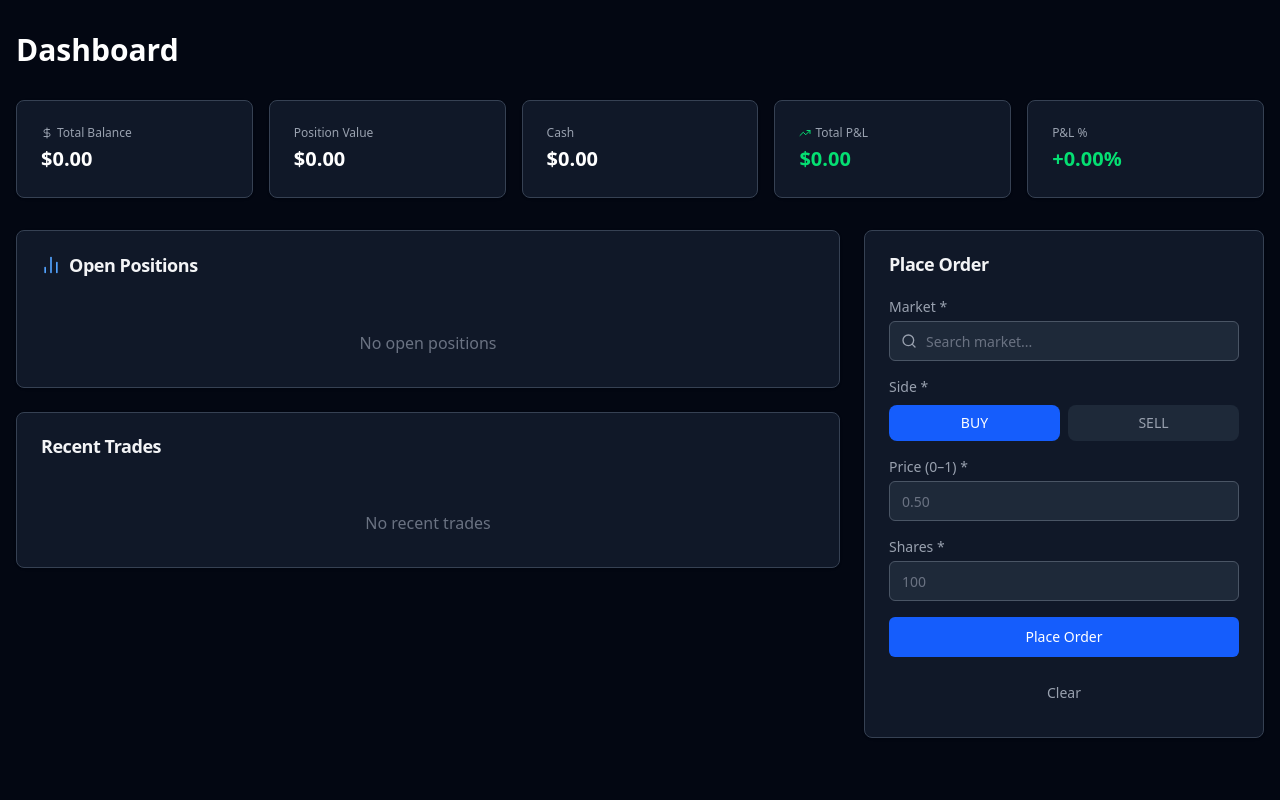
Scenario: Task 1.8: Dashboard › Test 2: Place order form validates required fields
Expected: the element with test id "order-form" is shown, [865, 297, 1263, 737]
Step 1. Click the button with test id "place-order-btn" → (1064, 637), box [889, 617, 1239, 657]
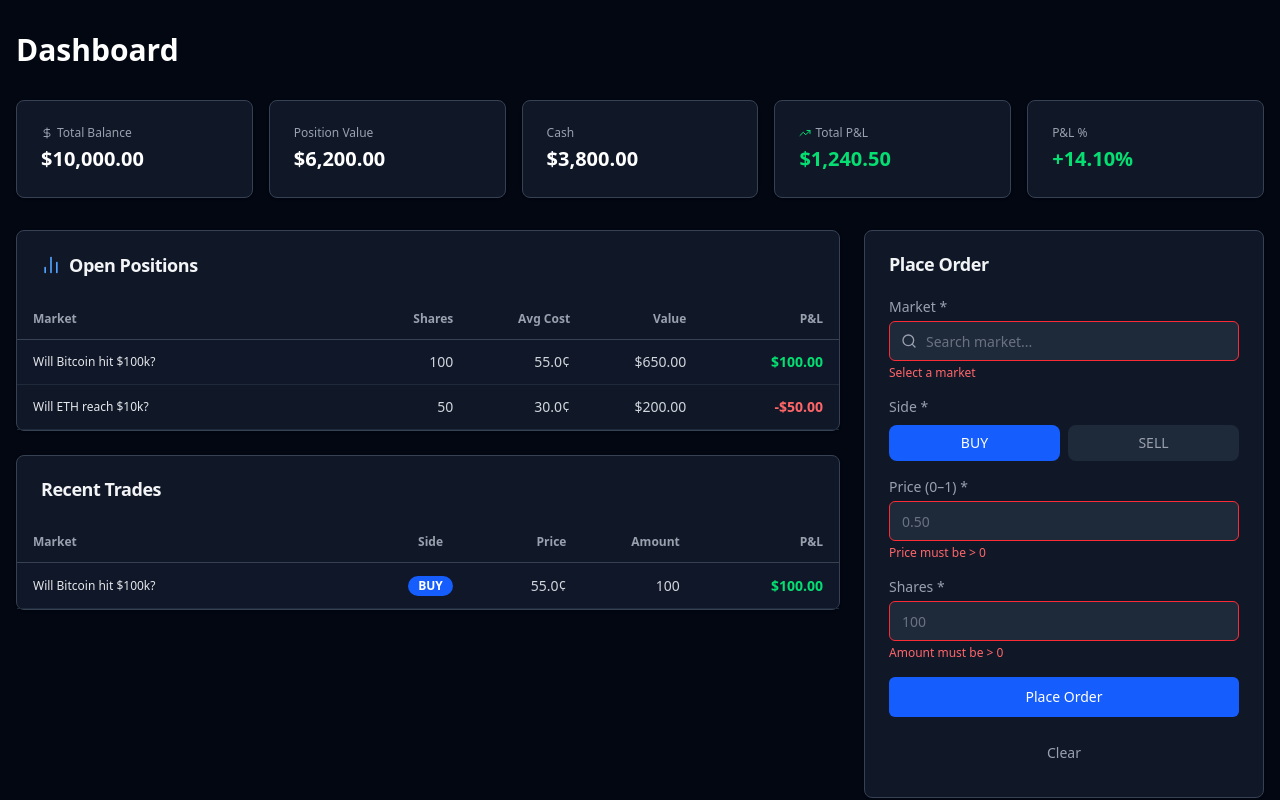
Now the text "Select a market" is shown, box [889, 364, 976, 381]
